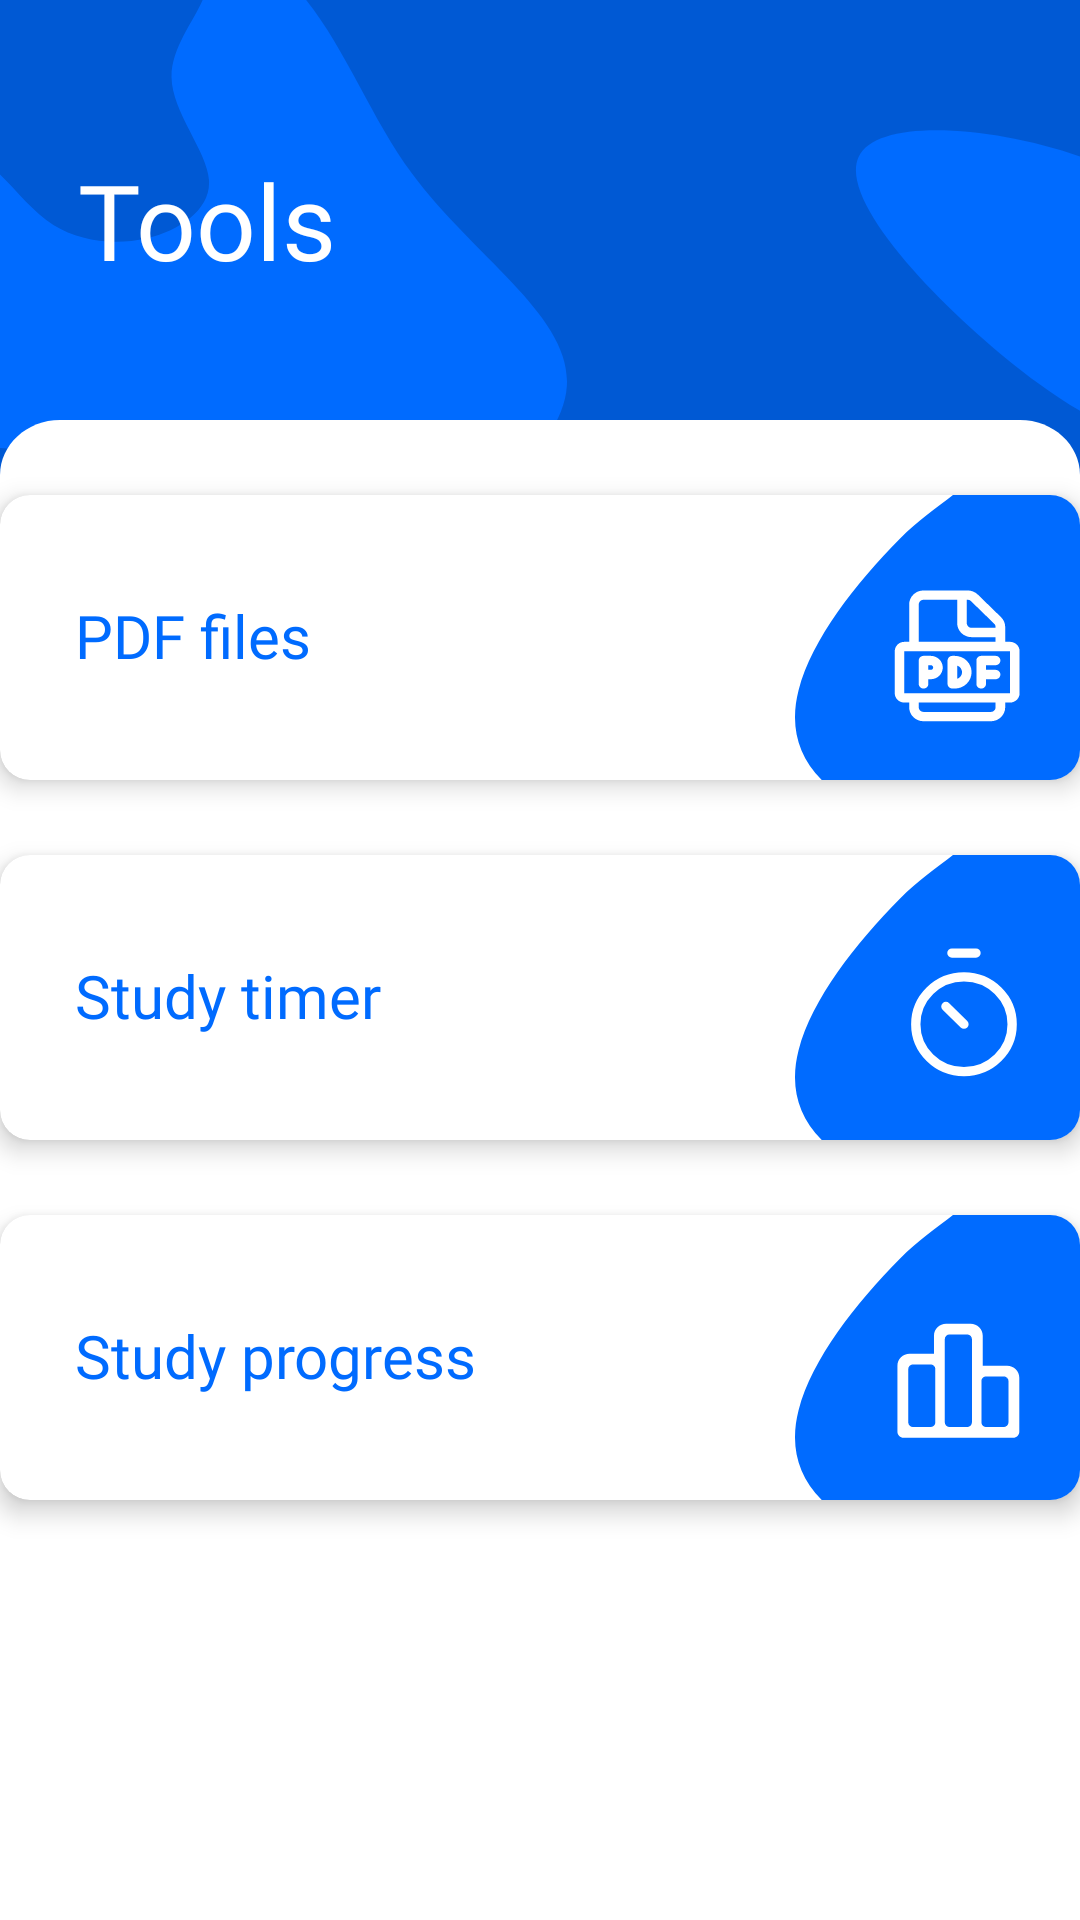

Screen size 1080 × 1920. Icon name, then its center in pixels as (x,y):
graph: (937,1357)
pdf cardicon: (937,637)
